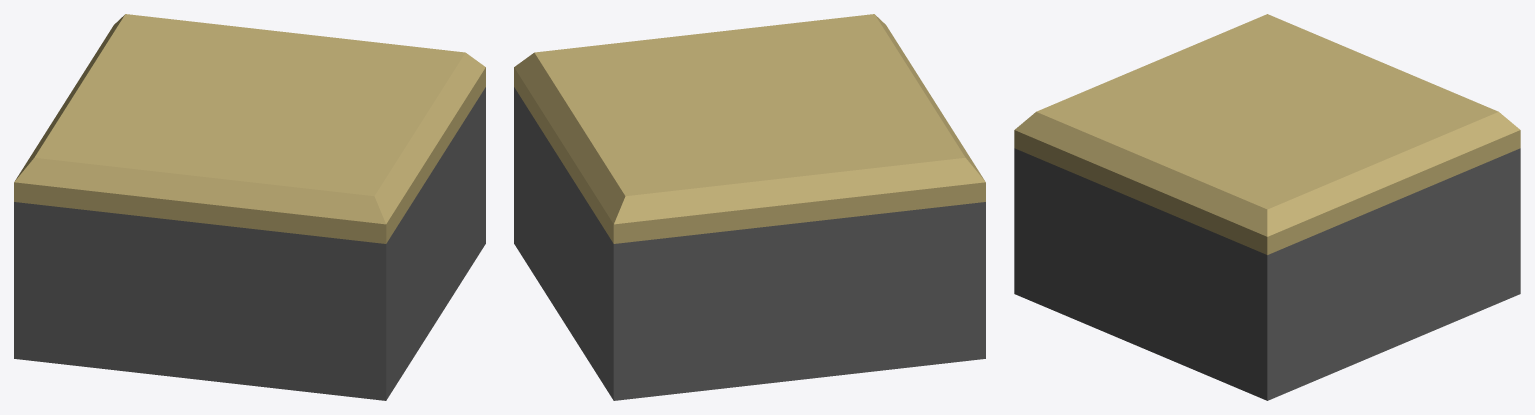
Rendered from gach_vuong.glb.
3 views of the same model, side by side, from view 1: azimuth 30°, elevation 25°; view 2: azimuth 150°, elevation 25°; view 3: azimuth 270°, elevation 25° (orthographic). The views are drawn at different scales.
Parts seen in each view (by area): view 1: gach_vuong; view 2: gach_vuong; view 3: gach_vuong.
Boxes of the visible parts, x1,y1,x2,y2 form: gach_vuong: [14, 14, 485, 400]; gach_vuong: [514, 14, 985, 400]; gach_vuong: [1014, 14, 1520, 400].
Bounding box in the file's own units: 0.151 × 0.06 × 0.151.
